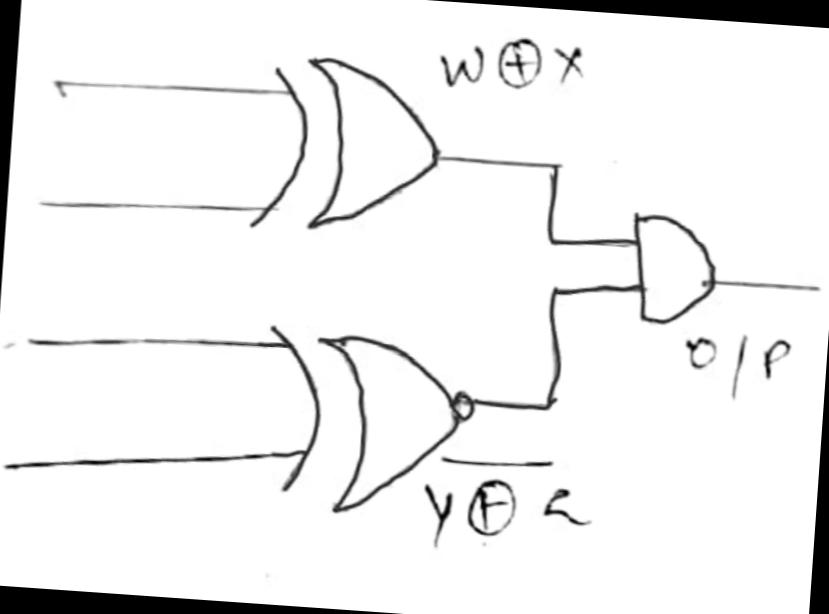and: (611, 204, 730, 334)
xnor: (247, 314, 486, 528)
xor: (241, 47, 455, 248)
